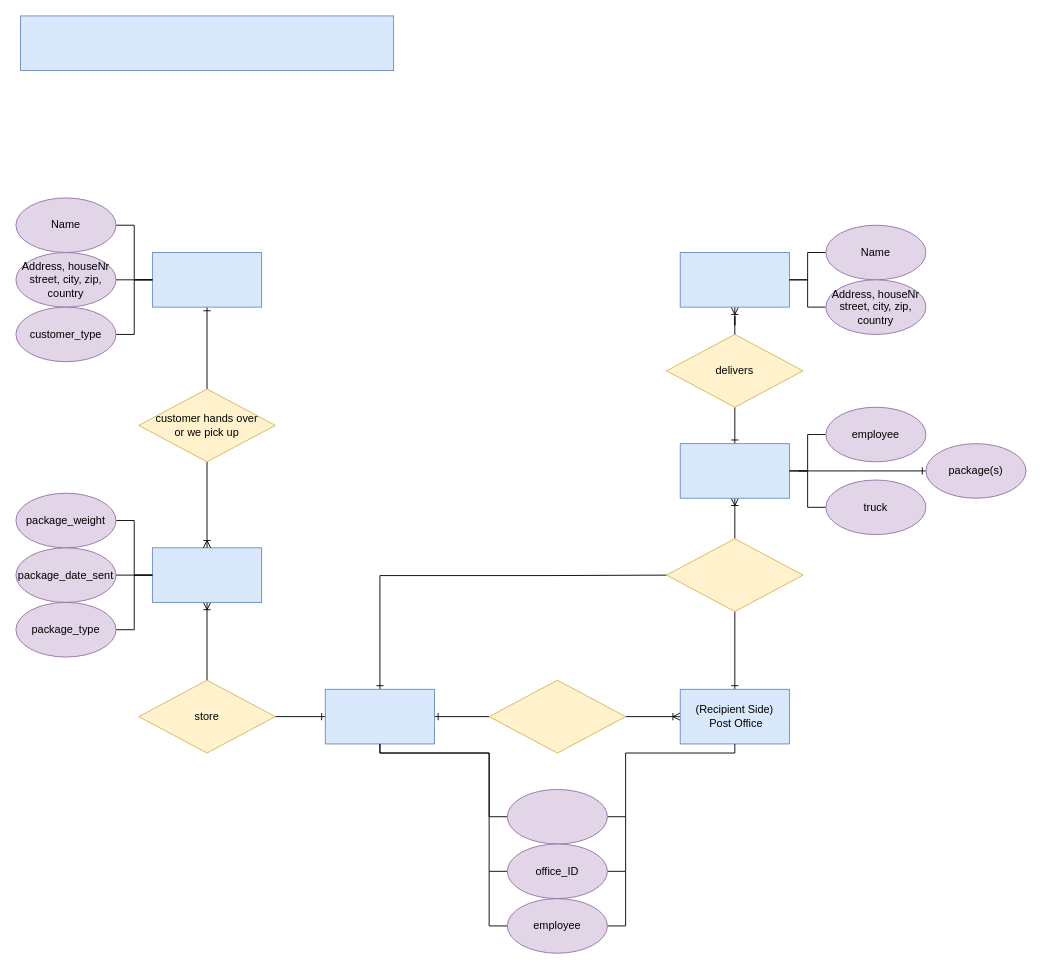
The diagram is 1042 pixels wide and 969 high, and some of its shapes have lost their labels. Each missing label, with the centre of its shape:
"(Sender Side) Post Office" goes at pixel 379 716.
"address" goes at pixel 556 816.
"Delivery Process" goes at pixel 734 470.
"forwards order" goes at pixel 557 716.
"Mail / Package" goes at pixel 207 574.
"Mail Delivery Service DataBase" goes at pixel 207 43.
"Recipient" goes at pixel 734 279.
"Sender / Customer" goes at pixel 207 279.
"sorting for delivery" goes at pixel 734 575.
